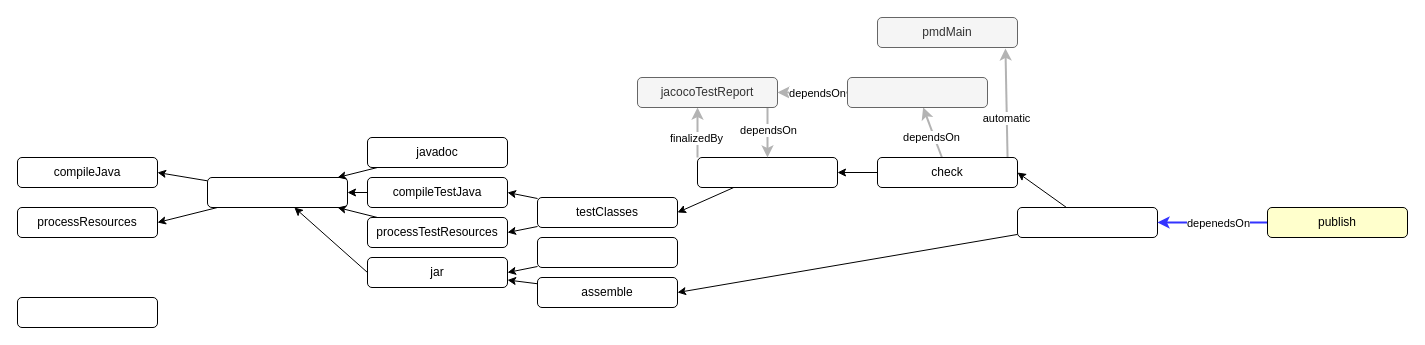
Image size: 1425x345. Some labels were removed from this diagram. Here are the shapes that lost their labels. From the top down, the centre of each, then its label:
the point at 917,92: jacocoTestCoverage Verification
the point at 277,192: classes
the point at 767,172: test
the point at 1087,222: build
the point at 607,252: uploadArchives
the point at 87,312: clean
